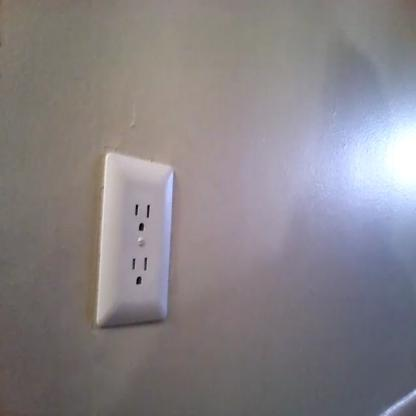OUTLET: (98, 156, 172, 326)
